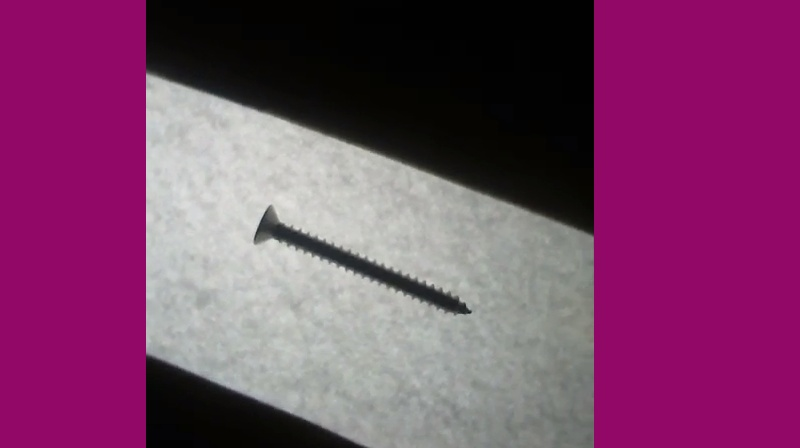S002: (251, 201, 476, 317)
